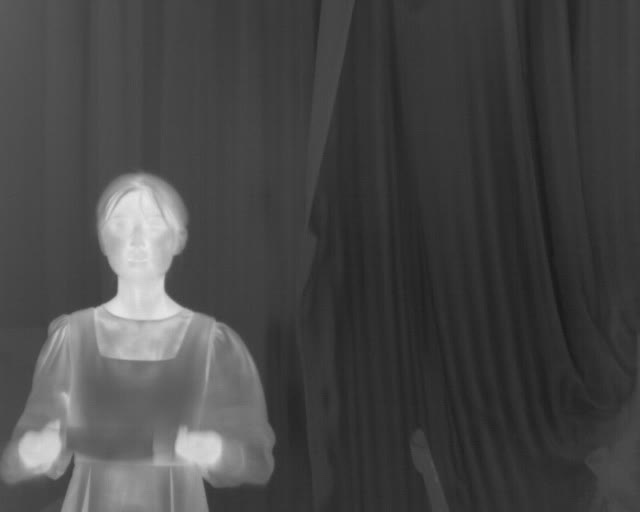face: (95, 170, 191, 284)
